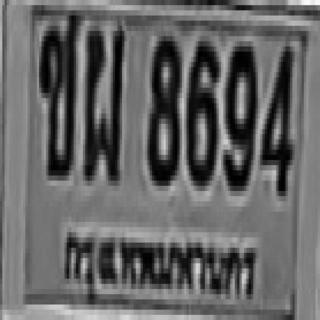A10: (37, 10, 78, 176)
A28: (81, 21, 124, 181)
N04: (260, 41, 290, 191)
N06: (184, 36, 216, 181)
N08: (145, 31, 180, 181)
N09: (221, 41, 256, 186)
P04: (55, 217, 262, 314)
